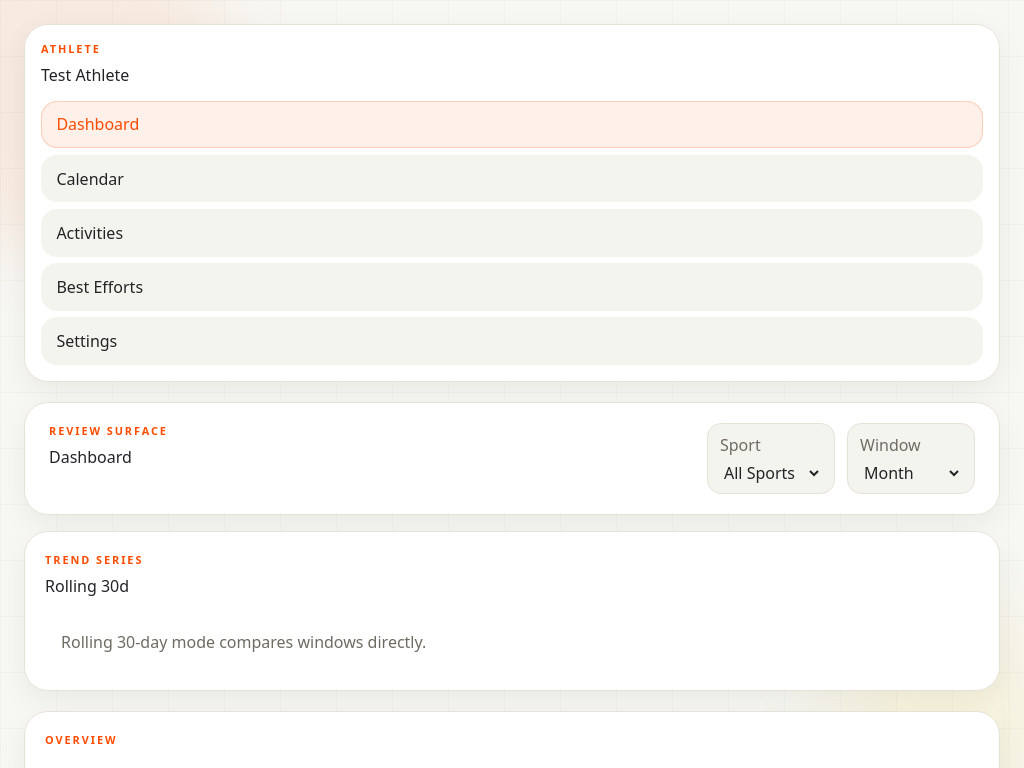
App › shows cycling best efforts when the ride filter is selected
The width and height of the screenshot is (1024, 768).
Select "Ride" in the dropdown labelled "Sport" at (771, 473), box [720,461,822,485]
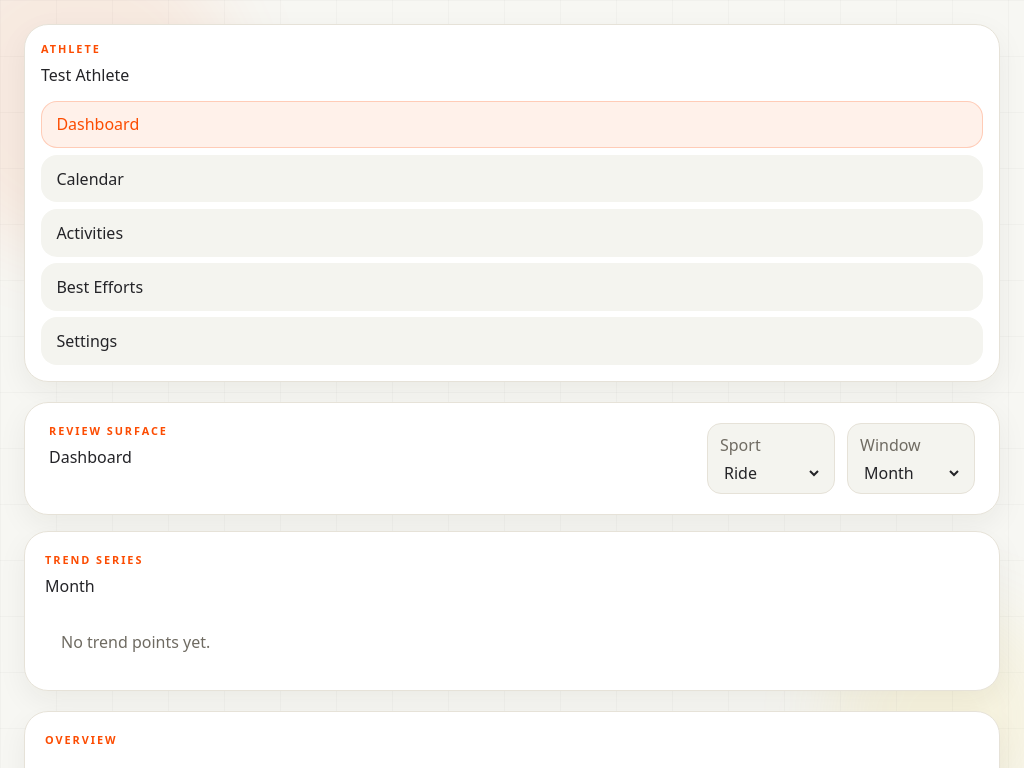
Click the button "Best Efforts" at (100, 287), box [41,263,983,311]
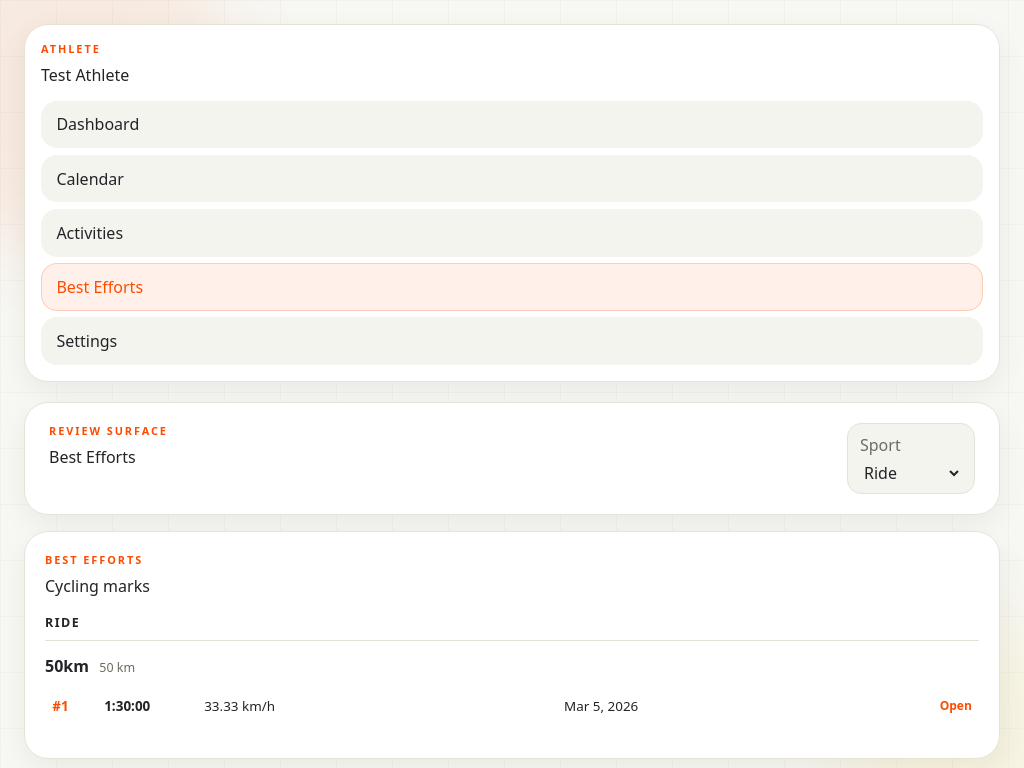
Expected: the heading "Cycling marks" is shown, [45,574,150,598]
Expected: the text "50 km" is shown, [99,659,135,678]
